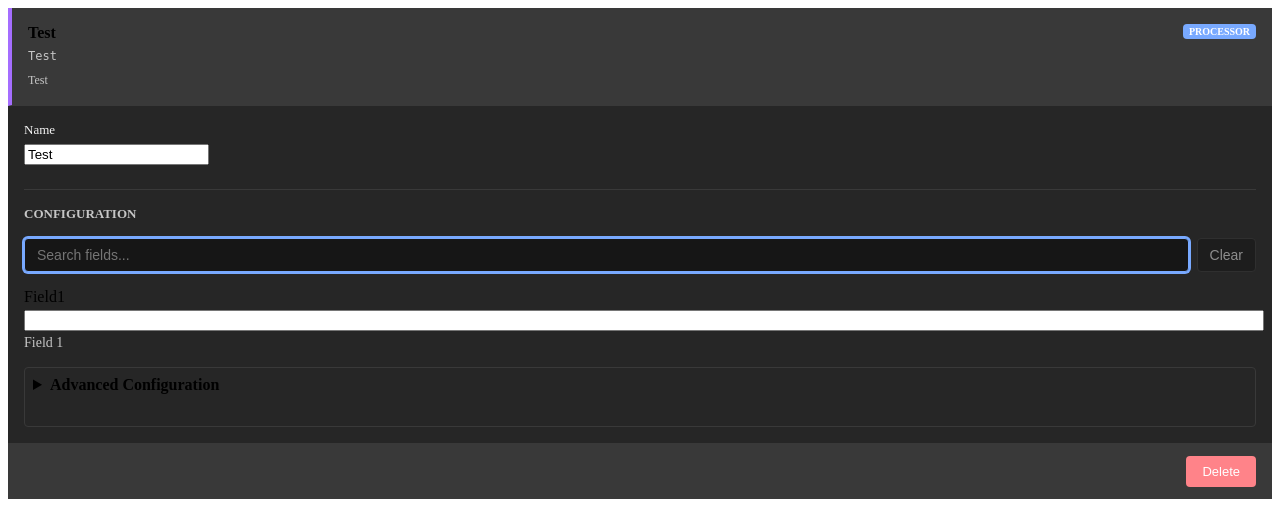
Test case: PropertiesPanel Attack Tests › Accessibility Attacks › handles keyboard-only navigation for search input
The width and height of the screenshot is (1280, 516).
Type with keyboard
Press f in the field with test id "field-search", box [24, 238, 1188, 272]
Type "field1" into the field with test id "field-search" at (606, 255), box [24, 238, 1188, 272]
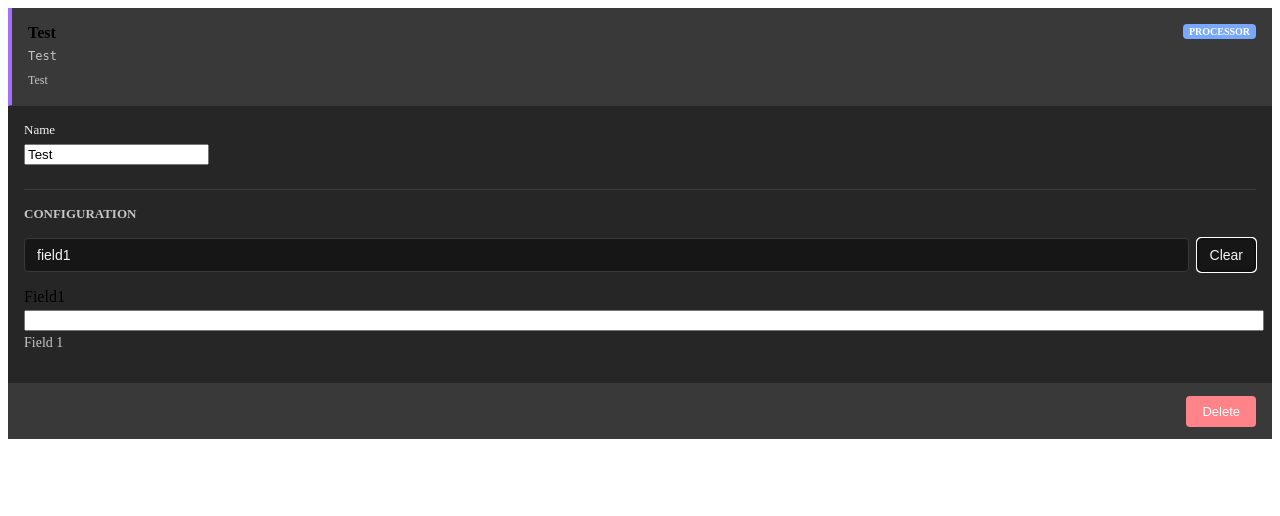
Activate with Enter
Press Enter in the button with test id "clear-search", box [1196, 238, 1256, 272]
Click the button with test id "clear-search" at (1226, 255), box [1196, 238, 1256, 272]
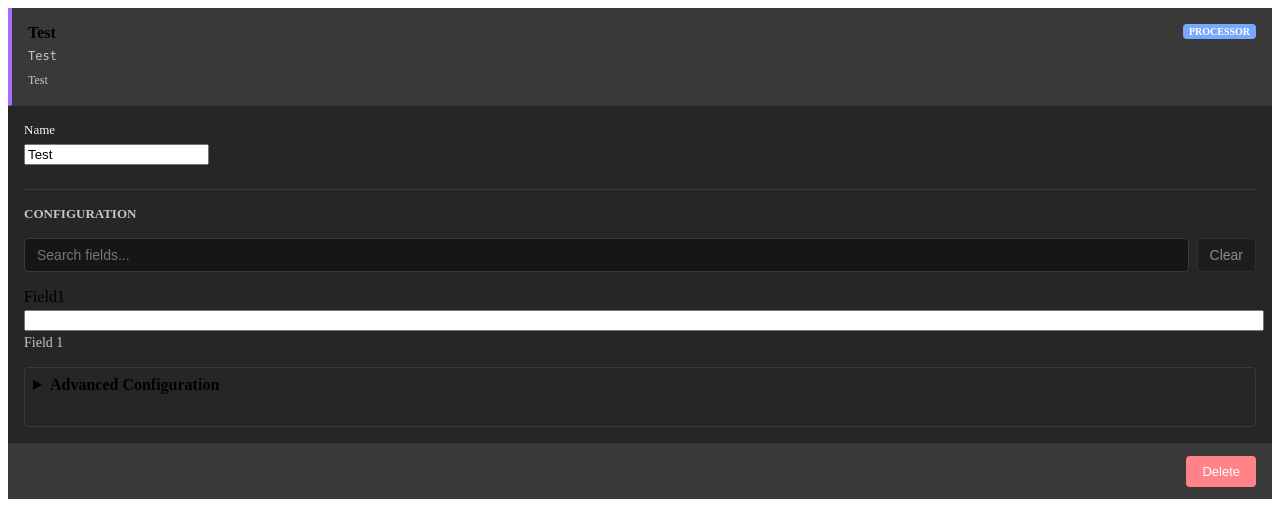
Check: the field with test id "field-search" is empty, box [24, 238, 1188, 272]
